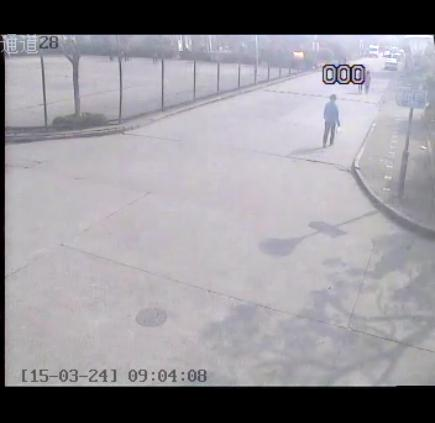person: (313, 84, 343, 162), (359, 64, 377, 94)
